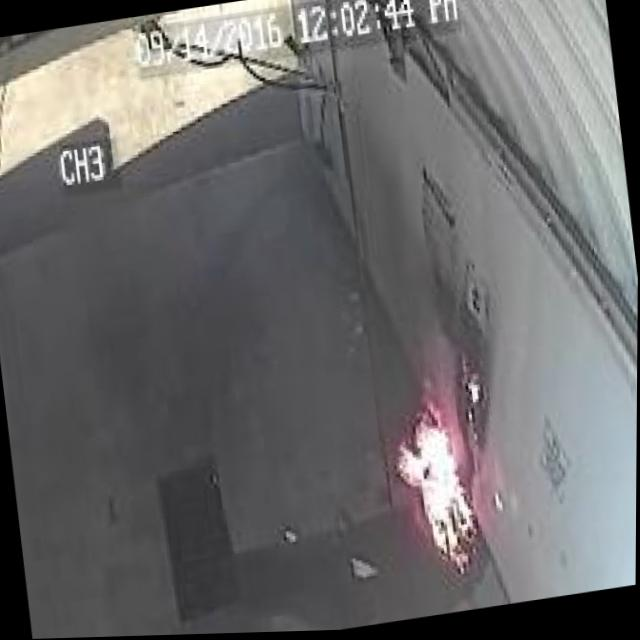fire: (375, 351, 511, 591)
